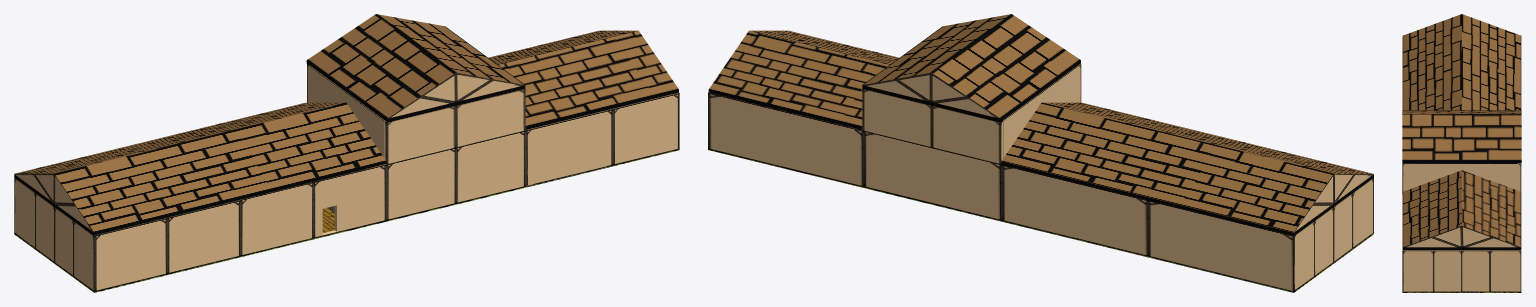
File: casa.obj
3 views of the same model, side by side, from view 1: azimuth 30°, elevation 25°; view 2: azimuth 150°, elevation 25°; view 3: azimuth 270°, elevation 25° (orthographic). The views are drawn at different scales.
Visible parts, largest first — view 1: Pared_Piso1_MaderaPilares, Techo1_Material.004, Techo1.001_Tejas, Techo1.002_Tejas, Pared3_MaderaPilares, Techo1.001_TechoComplemento, Pared4.002_MaderaPilares, Techo1_TechoComplemento; view 2: Pared2_MaderaPilares, Techo1_Material.004, Techo1.001_Tejas, Techo1.002_Tejas, Pared3_MaderaPilares, Techo1.001_TechoComplemento, Pared4.002_MaderaPilares, Pared_Piso1_MaderaPilares, Techo1_TechoComplemento; view 3: Techo1_Material.004, Techo1.002_Tejas, Techo1.001_Tejas, Pared4_MaderaPilares, Pared4.001_MaderaPilares, Techo1.002_TechoComplemento, Pared_Piso1_MaderaPilares, Pared2_MaderaPilares.
Boxes of the visible parts, bbox=[...] form: Pared_Piso1_MaderaPilares: bbox=[14, 88, 679, 292]; Techo1_Material.004: bbox=[14, 102, 386, 235]; Techo1.001_Tejas: bbox=[306, 14, 525, 122]; Techo1.002_Tejas: bbox=[488, 30, 678, 129]; Pared3_MaderaPilares: bbox=[16, 179, 92, 288]; Techo1.001_TechoComplemento: bbox=[388, 72, 524, 118]; Pared4.002_MaderaPilares: bbox=[308, 65, 384, 157]; Techo1_TechoComplemento: bbox=[14, 173, 93, 231]; Pared2_MaderaPilares: bbox=[708, 88, 1295, 291]; Techo1_Material.004: bbox=[1001, 102, 1373, 235]; Techo1.001_Tejas: bbox=[862, 14, 1080, 122]; Techo1.002_Tejas: bbox=[708, 30, 899, 129]; Pared3_MaderaPilares: bbox=[1296, 179, 1371, 288]; Techo1.001_TechoComplemento: bbox=[862, 72, 1000, 118]; Pared4.002_MaderaPilares: bbox=[1003, 65, 1079, 158]; Pared_Piso1_MaderaPilares: bbox=[708, 63, 1373, 292]; Techo1_TechoComplemento: bbox=[1294, 174, 1373, 231]; Techo1_Material.004: bbox=[1402, 14, 1521, 110]; Techo1.002_Tejas: bbox=[1402, 170, 1521, 249]; Techo1.001_Tejas: bbox=[1402, 110, 1521, 162]; Pared4_MaderaPilares: bbox=[1405, 250, 1517, 291]; Pared4.001_MaderaPilares: bbox=[1405, 163, 1517, 190]; Techo1.002_TechoComplemento: bbox=[1403, 225, 1520, 247]; Pared_Piso1_MaderaPilares: bbox=[1402, 38, 1521, 292]; Pared2_MaderaPilares: bbox=[1518, 163, 1521, 291].
Bounding box in the file's own units: 44.01 × 9.48 × 10.44.
